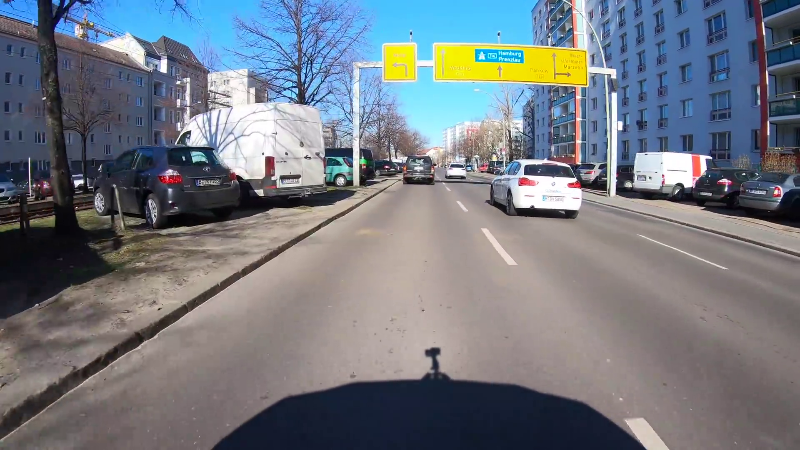Plate: (193, 177, 220, 186), (541, 195, 565, 202)
